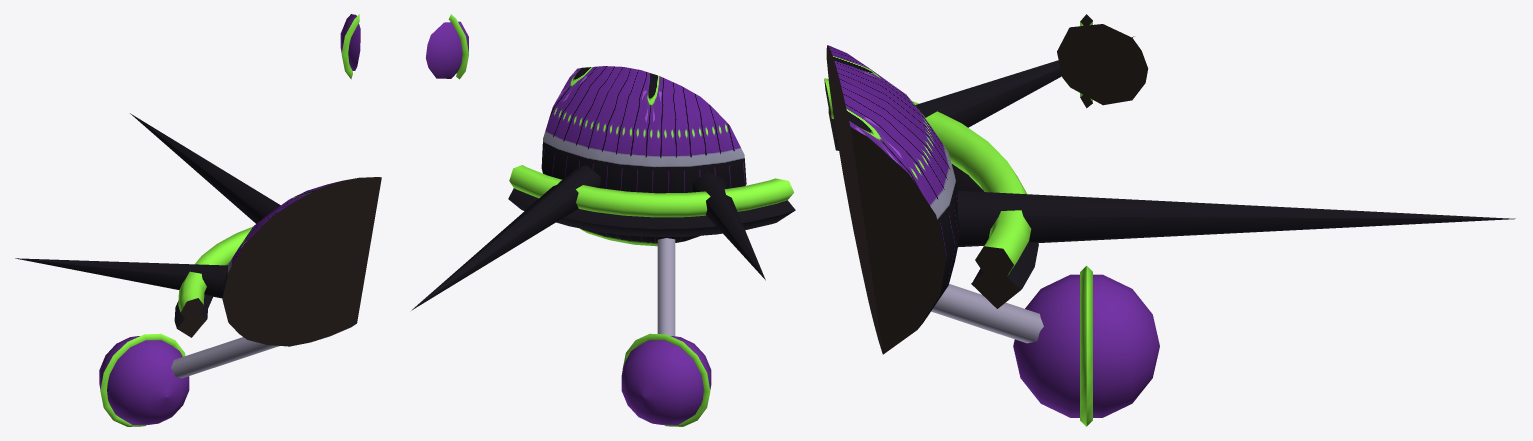
File: dominion_outpost_debris1.obj
The picture shows the model from 3 angles, left to right: view 1: azimuth 30°, elevation 25°; view 2: azimuth 150°, elevation 25°; view 3: azimuth 270°, elevation 25°; orthographic projection. The views are drawn at different scales.
Parts seen in each view (by area): view 1: hub, pod, spike, strut, glow_ring, pod_band, ring_frame; view 2: hub, pod, spike, glow_ring, ring_frame, strut, pod_band; view 3: hub, pod, spike, glow_ring, strut, ring_frame, pod_band.
Boxes of the visible parts, bbox=[...] form: hub: bbox=[222, 177, 381, 346]; pod: bbox=[99, 14, 360, 424]; spike: bbox=[15, 113, 280, 298]; strut: bbox=[171, 332, 287, 378]; glow_ring: bbox=[178, 226, 252, 320]; pod_band: bbox=[100, 14, 359, 426]; ring_frame: bbox=[174, 294, 212, 337]; hub: bbox=[541, 66, 746, 246]; pod: bbox=[426, 21, 711, 424]; spike: bbox=[411, 165, 765, 310]; glow_ring: bbox=[509, 165, 793, 217]; ring_frame: bbox=[508, 188, 795, 237]; strut: bbox=[657, 238, 675, 336]; pod_band: bbox=[448, 14, 710, 426]; hub: bbox=[826, 45, 960, 354]; pod: bbox=[1013, 24, 1159, 417]; spike: bbox=[915, 36, 1515, 247]; glow_ring: bbox=[824, 78, 1031, 275]; strut: bbox=[861, 151, 1043, 343]; ring_frame: bbox=[828, 109, 1038, 308]; pod_band: bbox=[1080, 14, 1092, 426].
Bounding box in the file's own units: 75.81 × 77.43 × 85.11.
6 materials, 1 textured.
